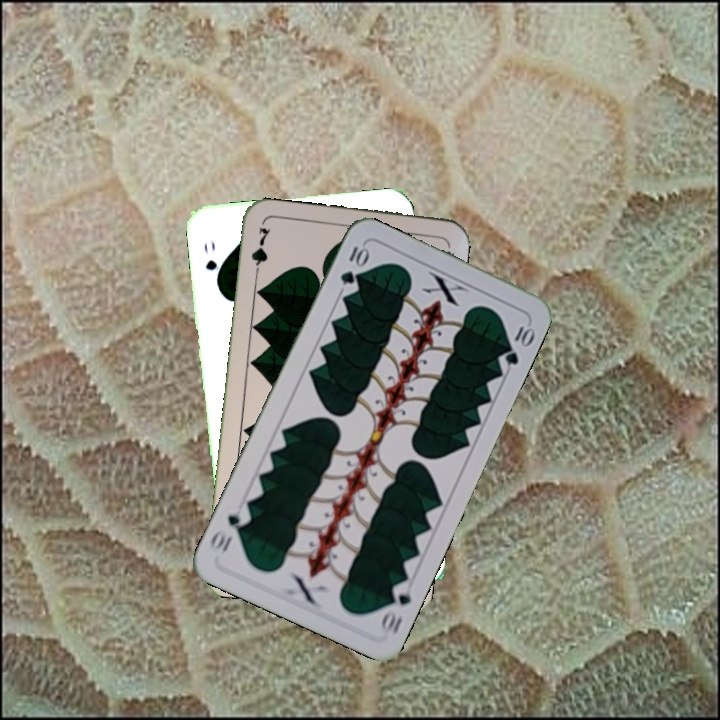G10: (376, 577, 414, 637), (336, 241, 371, 288)
G7: (247, 223, 274, 282)
GO: (199, 238, 224, 288)
